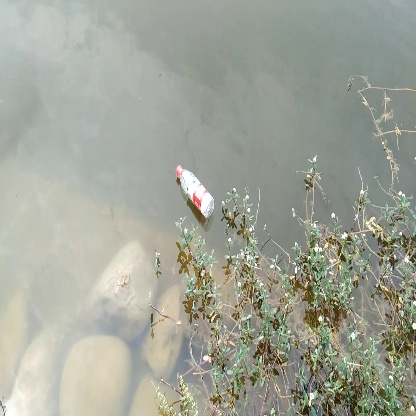bottle: (174, 162, 218, 221)
